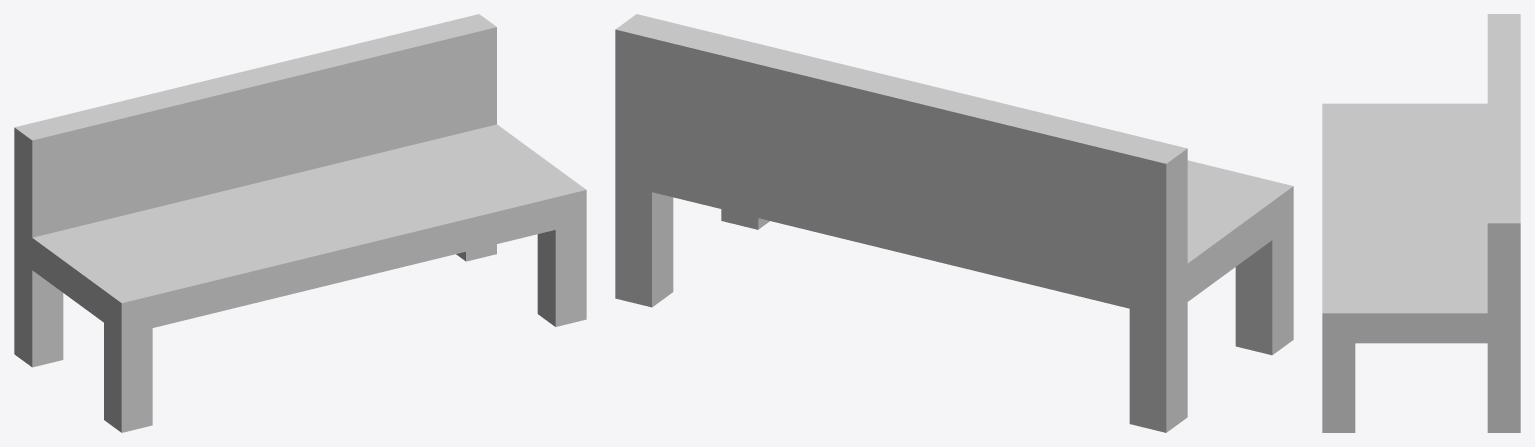
Rendered from obj_bench3.obj.
The picture shows the model from 3 angles, left to right: view 1: azimuth 30°, elevation 25°; view 2: azimuth 150°, elevation 25°; view 3: azimuth 270°, elevation 25°; orthographic projection. The views are drawn at different scales.
Bounding box in the file's own units: 1.5 × 0.7 × 0.6.
1 material, 1 textured.
